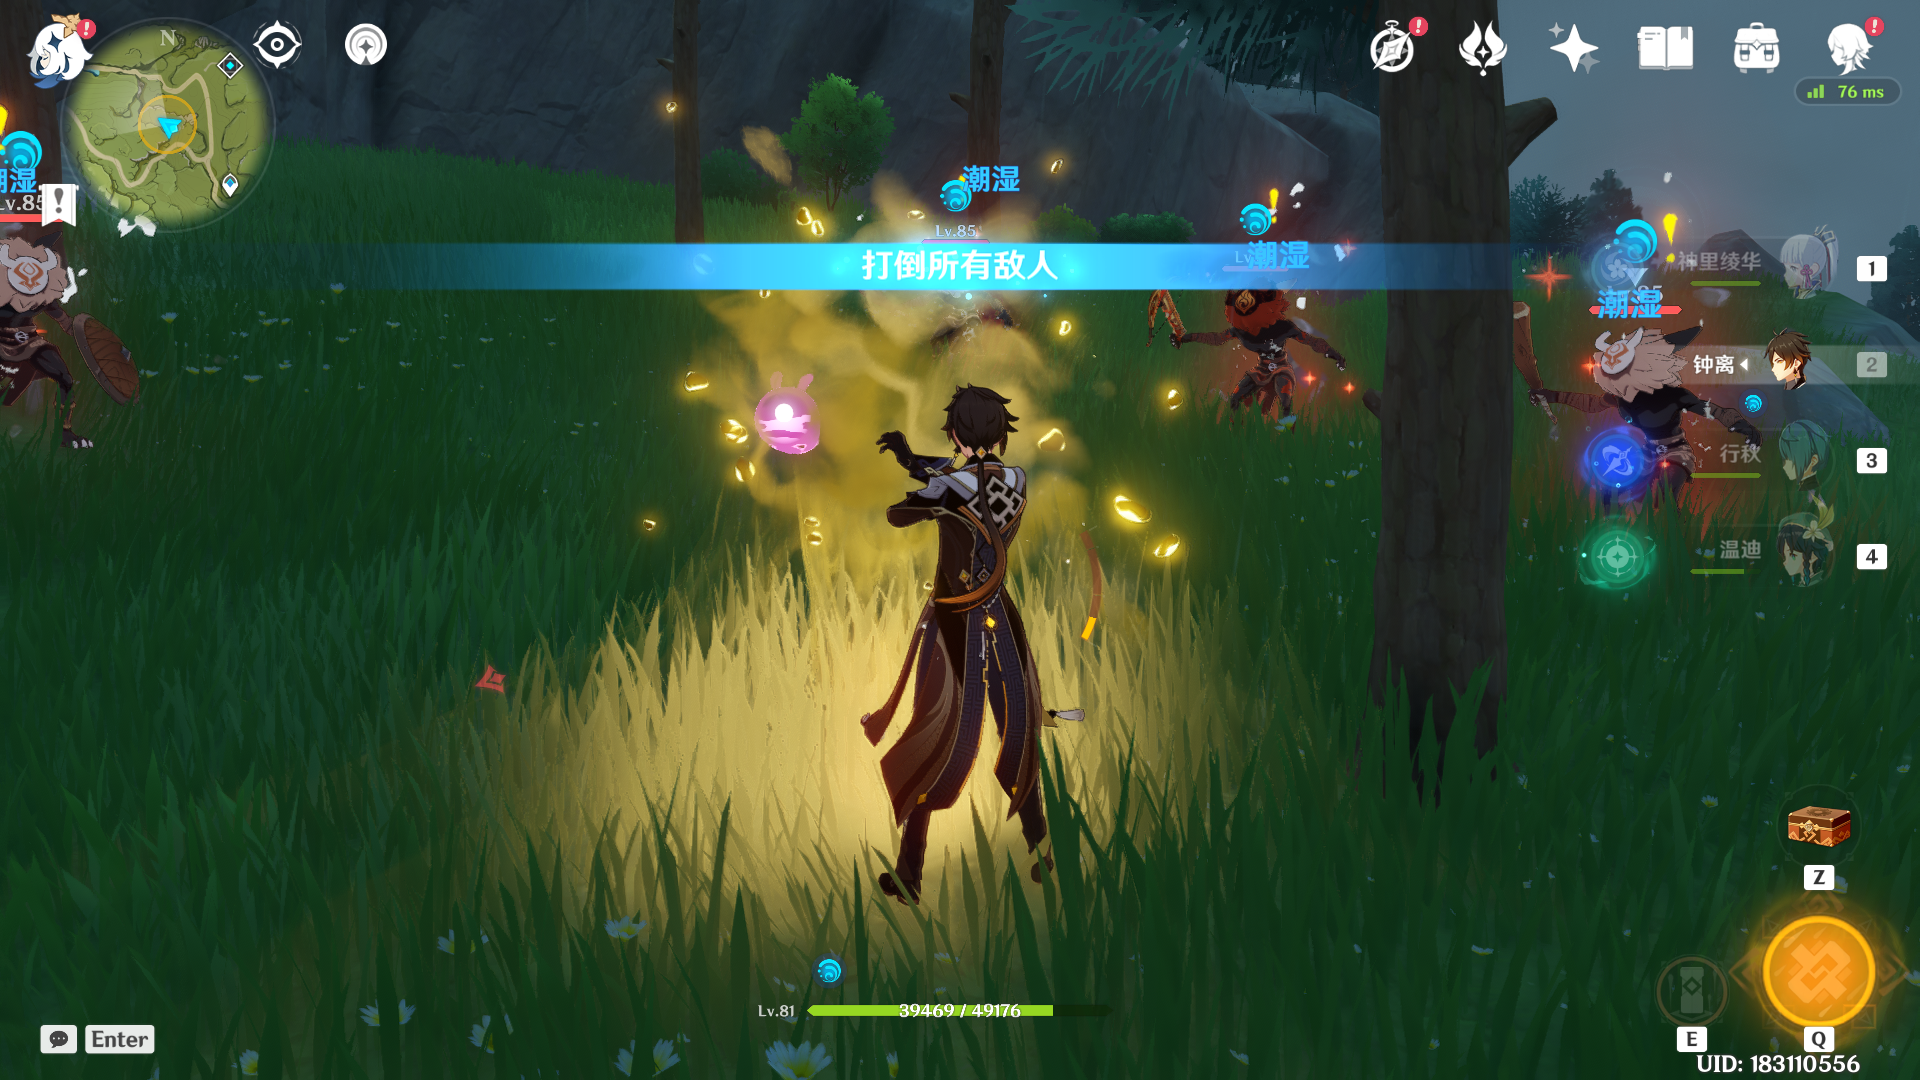character: (796, 345, 1112, 913)
hili: (1457, 239, 1804, 578), (1116, 251, 1389, 462)
